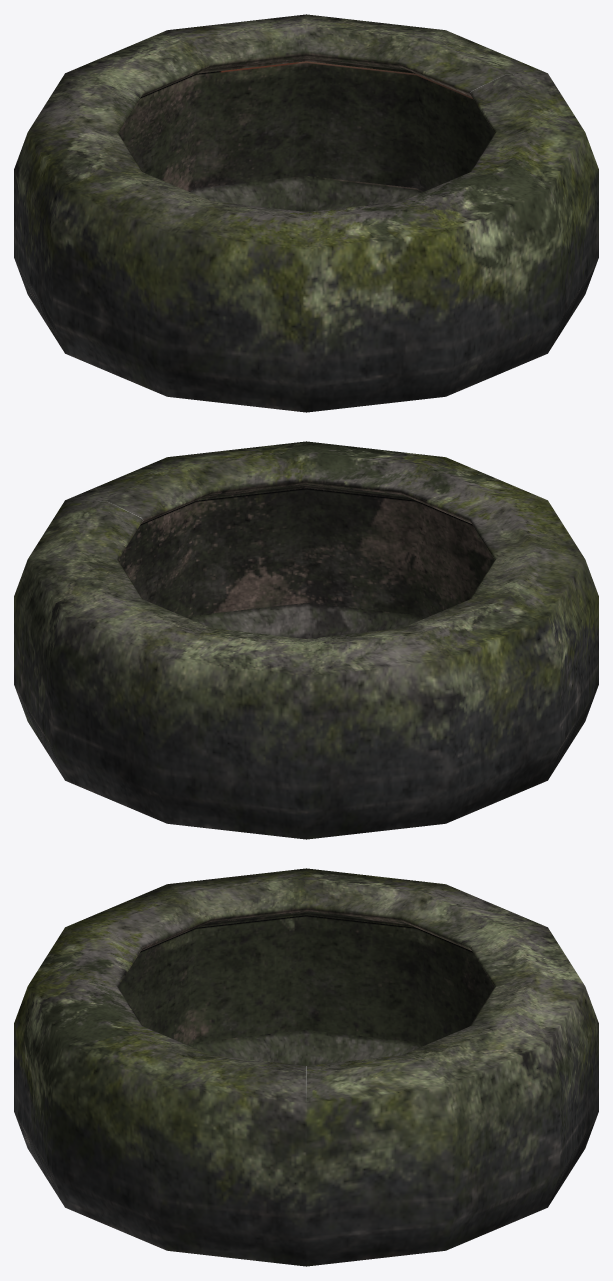
The model's file is tire.fbx.
The picture shows the model from 3 angles, top to bottom: view 1: azimuth 30°, elevation 25°; view 2: azimuth 150°, elevation 25°; view 3: azimuth 270°, elevation 25°; orthographic projection.
Parts seen in each view (by area): view 1: tire; view 2: tire; view 3: tire.
Part boxes in pixels (x1,y1,x2,y2): tire: (14,14,598,412); tire: (14,441,598,839); tire: (14,868,598,1266).
Bounding box in the file's own units: 100 × 34.16 × 100.
Materials: 1 (1 with a texture image).
